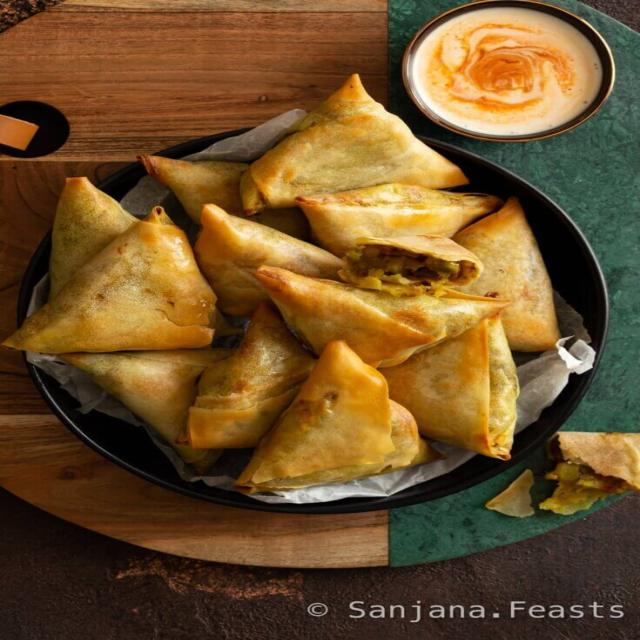SAMOSA: (240, 74, 468, 215), (5, 219, 219, 354), (237, 342, 421, 491), (382, 310, 518, 458), (62, 348, 230, 464), (188, 303, 313, 449), (255, 267, 434, 368), (194, 204, 340, 317), (455, 199, 560, 352), (296, 183, 502, 256), (51, 178, 137, 298), (539, 432, 639, 515), (142, 156, 248, 222), (487, 472, 526, 514), (153, 374, 160, 382)
